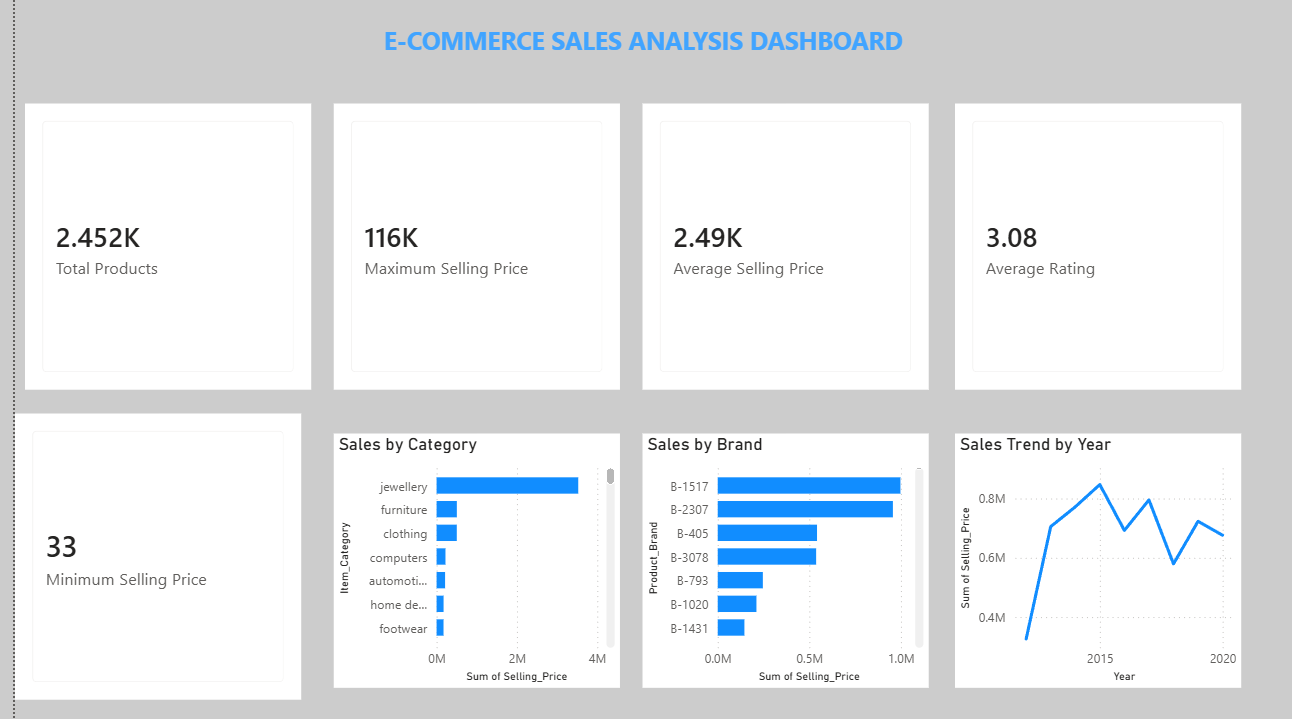

Layout of this report page (visuals, bound fields, positions):
{"tool":"powerbi","page":{"name":"Page 1","canvas":[1280,720],"ordinal":0},"visuals":[{"type":"cardVisual","fields":{"Data":["CountNonNull(data.Product)"]},"box":[10,110,280,280],"z":0},{"type":"textbox","box":[252.9,27.1,722.9,58.6],"z":1000},{"type":"cardVisual","fields":{"Data":["Avg(data.Selling_Price)"]},"box":[614.3,110,280,280],"z":2000},{"type":"cardVisual","fields":{"Data":["Max(data.Selling_Price)"]},"box":[311.4,110,280,280],"z":3000},{"type":"cardVisual","fields":{"Data":["Avg(data.Item_Rating)"]},"box":[920,110,280,280],"z":4000},{"type":"cardVisual","fields":{"Data":["Min(data.Selling_Price)"]},"box":[0,412.9,280,280],"z":5000},{"type":"clusteredBarChart","title":"Sales by Category","fields":{"Category":["data.Item_Category"],"Y":["Sum(data.Selling_Price)"]},"box":[311.4,432.9,280,248.6],"z":6000},{"type":"clusteredBarChart","title":"Sales by Brand ","fields":{"Category":["data.Product_Brand"],"Y":["Sum(data.Selling_Price)"]},"box":[614.3,432.9,280,248.6],"z":7000},{"type":"lineChart","title":"Sales Trend by Year","fields":{"Category":["data.Year"],"Y":["Sum(data.Selling_Price)"]},"box":[920,432.9,280,248.6],"z":8000}]}

Visuals, with their boxes in screenshot pixels (x1, y1, x2, y2), scaled from the page's 1280x720 canvas onto the 1292x719 screenshot:
cardVisual - CountNonNull(data.Product): left=10, top=110, right=293, bottom=389
textbox: left=255, top=27, right=985, bottom=86
cardVisual - Avg(data.Selling_Price): left=620, top=110, right=903, bottom=389
cardVisual - Max(data.Selling_Price): left=314, top=110, right=597, bottom=389
cardVisual - Avg(data.Item_Rating): left=929, top=110, right=1211, bottom=389
cardVisual - Min(data.Selling_Price): left=0, top=412, right=283, bottom=692
"Sales by Category" clusteredBarChart: left=314, top=432, right=597, bottom=681
"Sales by Brand " clusteredBarChart: left=620, top=432, right=903, bottom=681
"Sales Trend by Year" lineChart: left=929, top=432, right=1211, bottom=681
